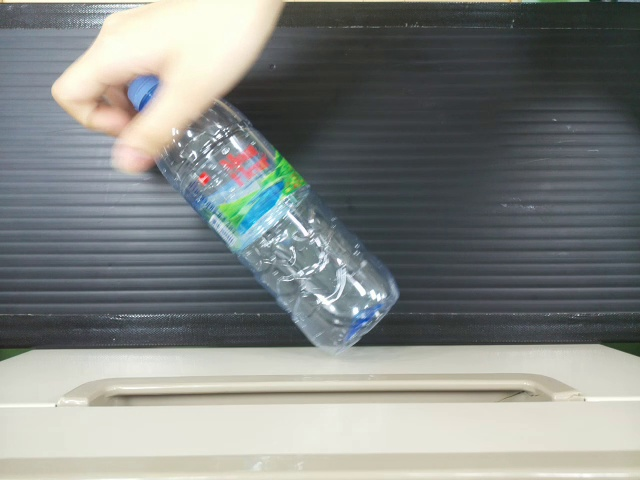bottle: (102, 76, 414, 350)
